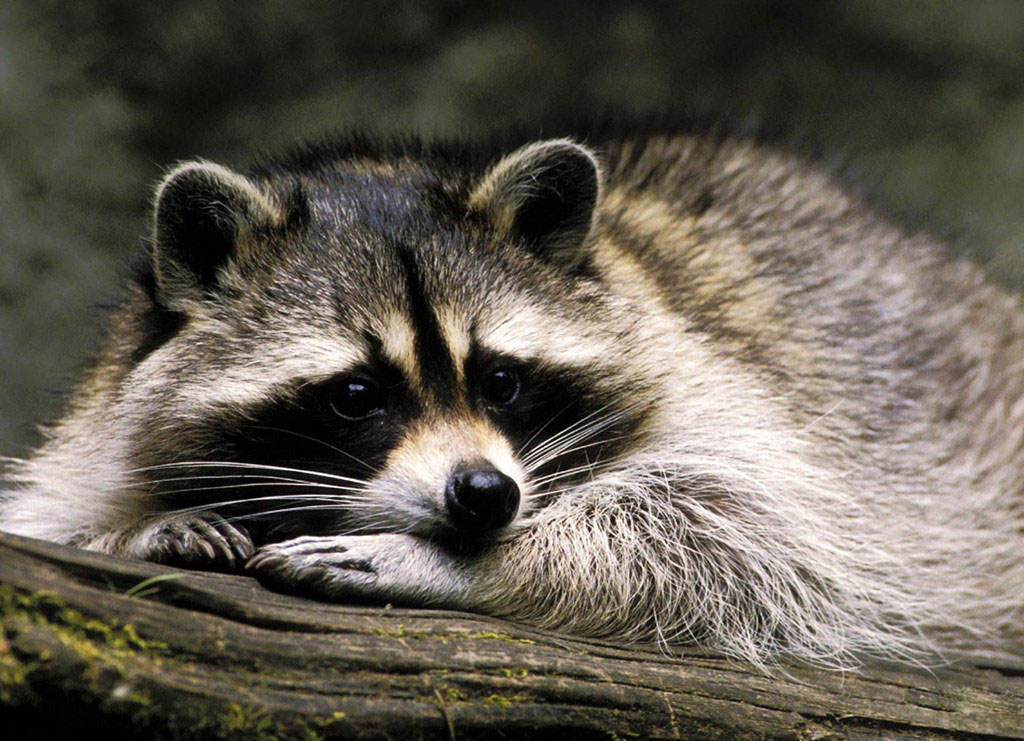raccoon: (28, 84, 1021, 691)
